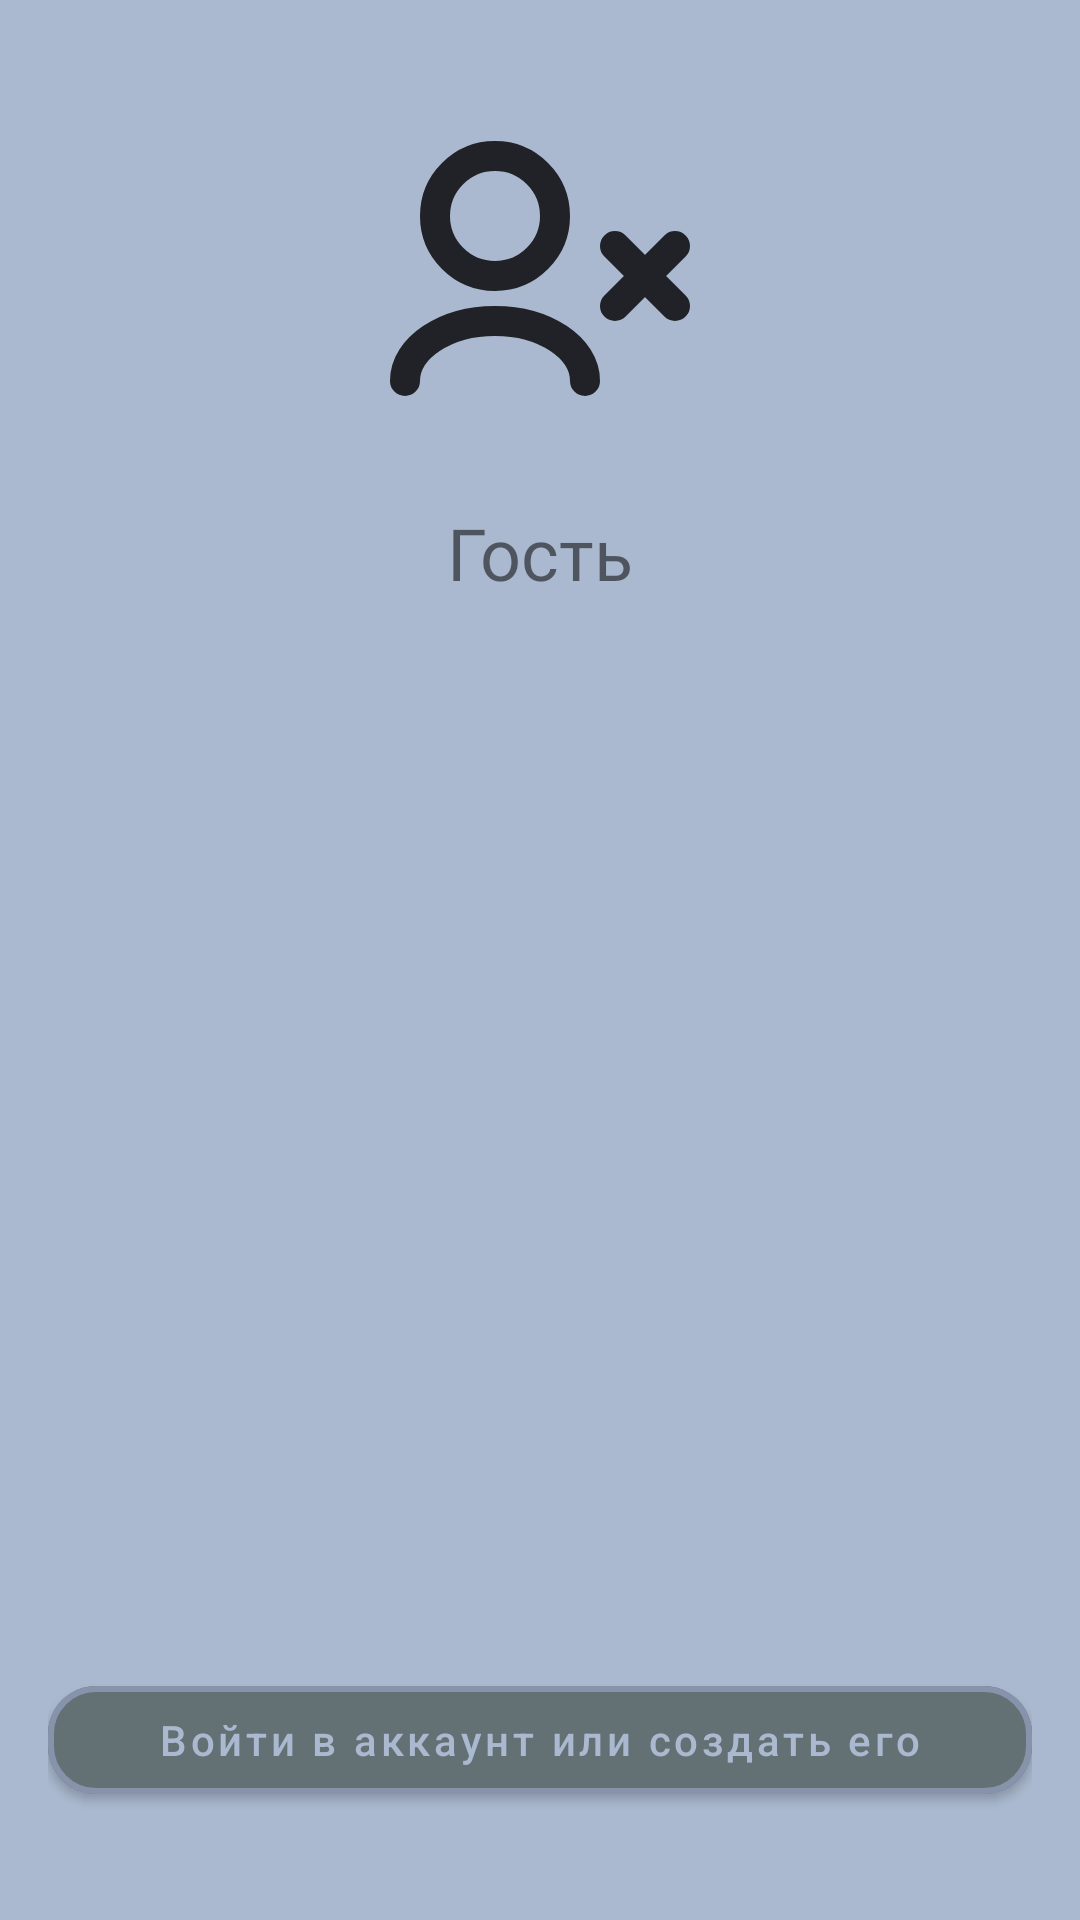

Named icons in this screenshot (1080x1920) and their bounding boxes, BBox(x1, y1, x2, y2):
unknown user: BBox(390, 141, 690, 396)
